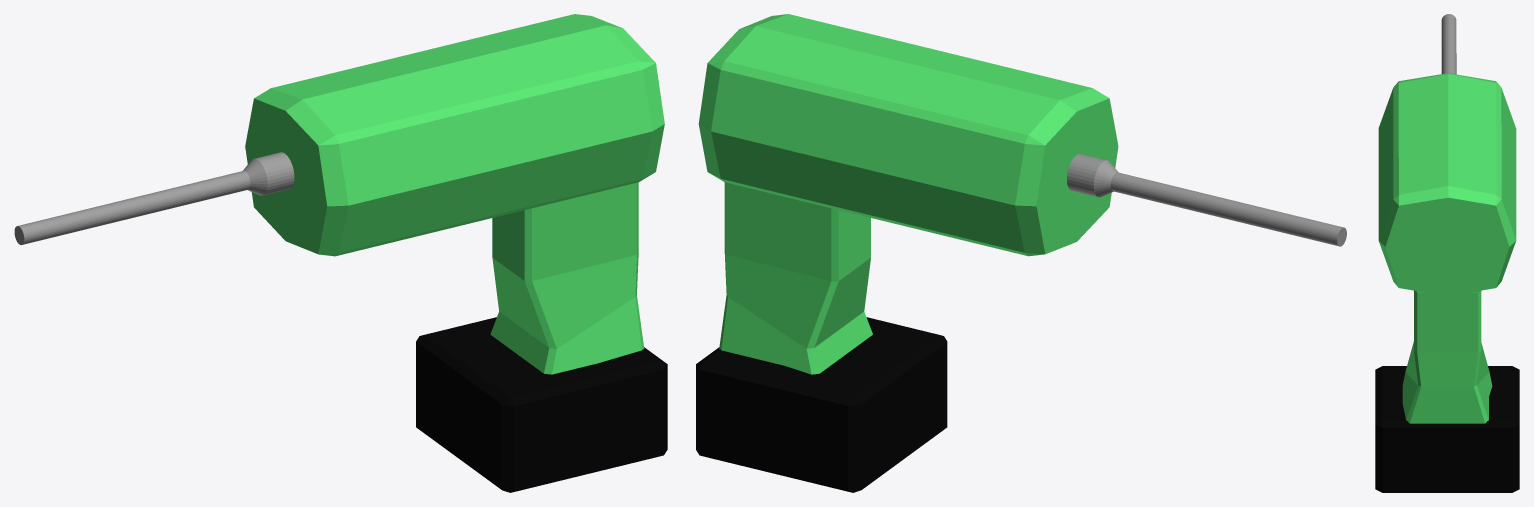
The model's file is Drill3.fbx.
3 renders of one model, left to right at view 1: azimuth 30°, elevation 25°; view 2: azimuth 150°, elevation 25°; view 3: azimuth 270°, elevation 25°, orthographic. The views are drawn at different scales.
Visible parts, largest first — view 1: Drill.003; view 2: Drill.003; view 3: Drill.003.
Part boxes in pixels (x1,y1,x2,y2): Drill.003: (14,14,667,492); Drill.003: (696,14,1346,492); Drill.003: (1375,14,1519,492).
Bounding box in the file's own units: 366 × 100 × 233.
